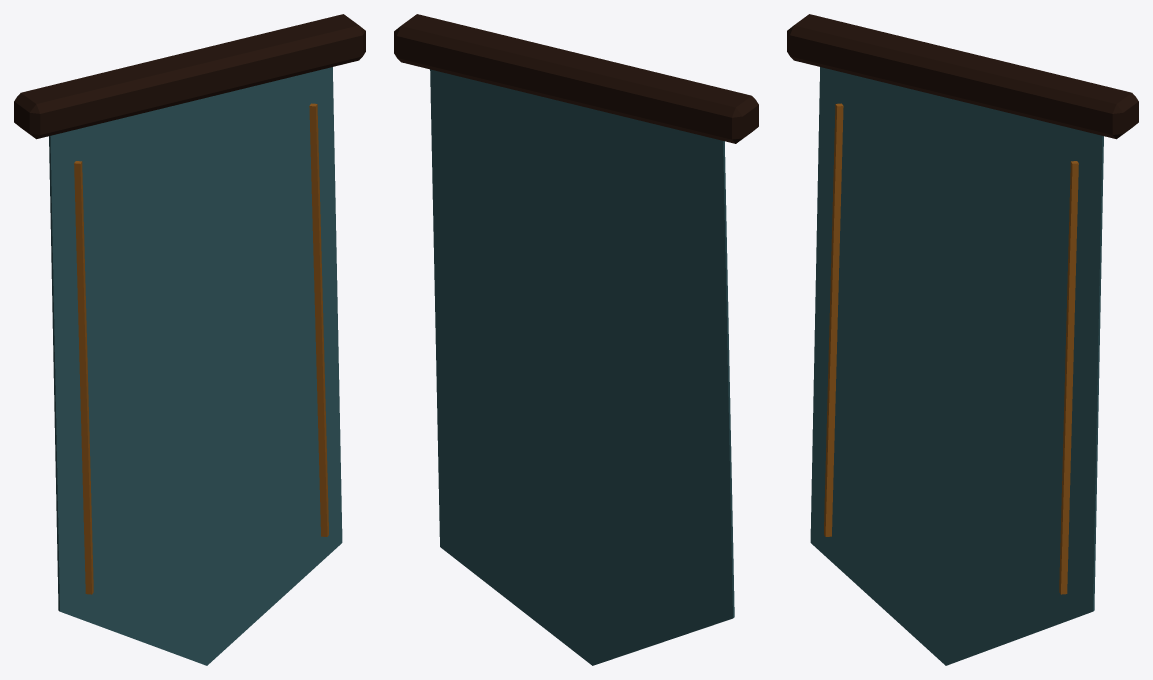
Rendered from Estandarte_de_tecido_LOD0.fbx.
The picture shows the model from 3 angles, left to right: view 1: azimuth 30°, elevation 25°; view 2: azimuth 150°, elevation 25°; view 3: azimuth 330°, elevation 25°; orthographic projection. The views are drawn at different scales.
Parts seen in each view (by area): view 1: Estandarte_de_tecido_LOD0; view 2: Estandarte_de_tecido_LOD0; view 3: Estandarte_de_tecido_LOD0.
Part boxes in pixels (x1,y1,x2,y2): Estandarte_de_tecido_LOD0: (14,14,365,665); Estandarte_de_tecido_LOD0: (394,14,758,665); Estandarte_de_tecido_LOD0: (787,14,1138,665).
Bounding box in the file's own units: 100 × 169 × 16.2.
Materials: 1 (1 with a texture image).
